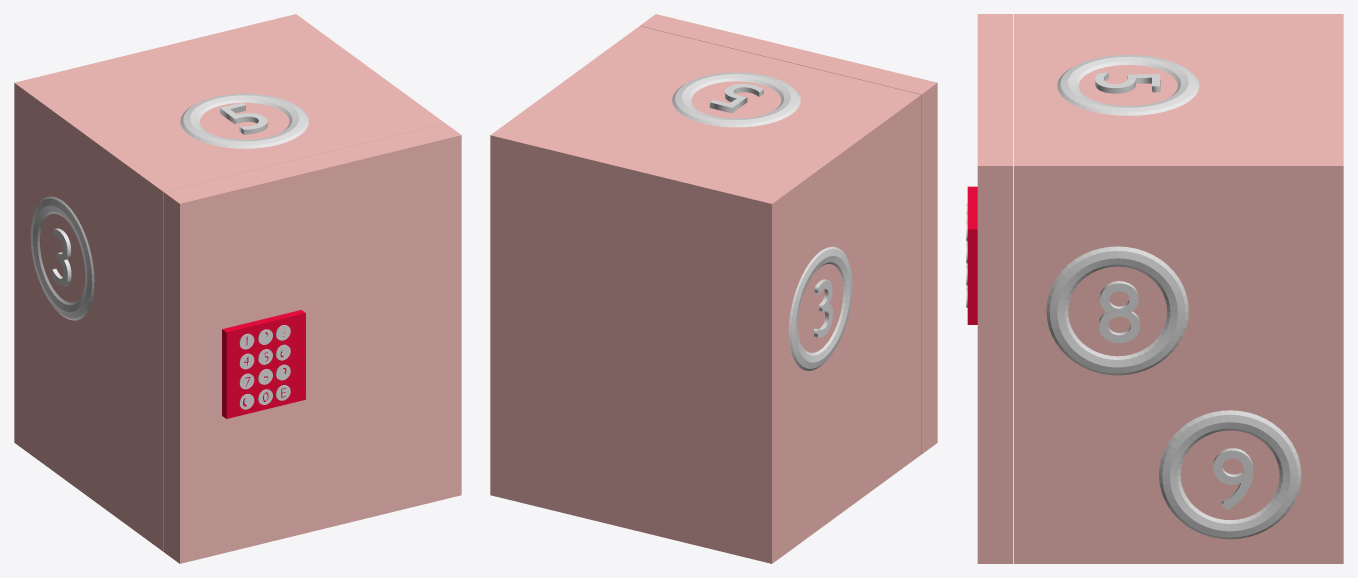
Rendered from case2 (2).fbx.
3 renders of one model, left to right at view 1: azimuth 30°, elevation 25°; view 2: azimuth 150°, elevation 25°; view 3: azimuth 270°, elevation 25°, orthographic. The views are drawn at different scales.
Parts seen in each view (by area): view 1: Cube.001, Cube, Cube.002, Torus, Torus.001, Text.001, Text.004; view 2: Cube, Cube.001, Torus, Torus.001, Text.001, Text.004; view 3: Cube, Cube.001, Torus.003, Torus.002, Torus, Text.002, Cube.002, Text.003, Text.001.
Boxes of the visible parts, bbox=[...] form: Cube.001: bbox=[164, 123, 461, 563]; Cube: bbox=[14, 14, 444, 551]; Cube.002: bbox=[222, 310, 305, 418]; Torus: bbox=[180, 93, 308, 148]; Torus.001: bbox=[30, 196, 94, 320]; Text.001: bbox=[220, 102, 267, 134]; Text.004: bbox=[52, 228, 71, 286]; Cube: bbox=[490, 26, 921, 563]; Cube.001: bbox=[640, 14, 937, 454]; Torus: bbox=[672, 72, 800, 127]; Torus.001: bbox=[788, 246, 852, 370]; Text.001: bbox=[709, 83, 763, 113]; Text.004: bbox=[814, 279, 832, 337]; Cube: bbox=[1013, 14, 1343, 563]; Cube.001: bbox=[977, 14, 1012, 563]; Torus.003: bbox=[1159, 410, 1301, 539]; Torus.002: bbox=[1046, 246, 1188, 375]; Torus: bbox=[1057, 55, 1199, 115]; Text.002: bbox=[1099, 281, 1140, 343]; Cube.002: bbox=[967, 186, 977, 324]; Text.003: bbox=[1213, 448, 1253, 510]; Text.001: bbox=[1095, 72, 1160, 93].
Bounding box in the file's own units: 191 × 229 × 194.
